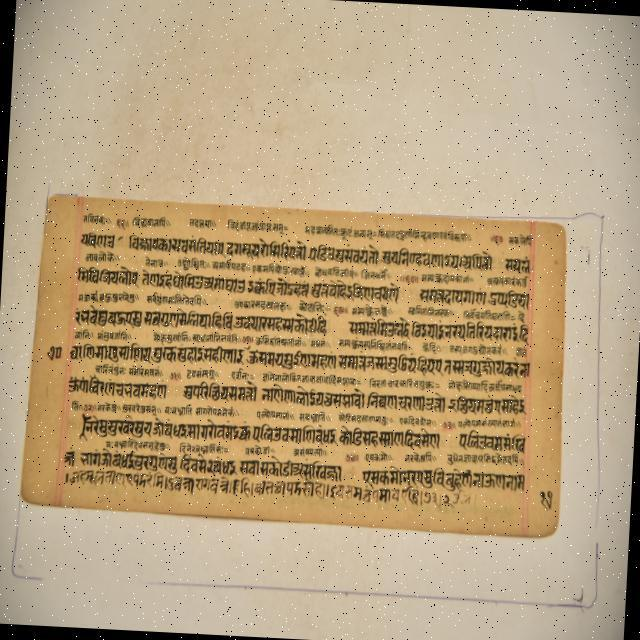text_paragraph: (19, 194, 562, 535)
